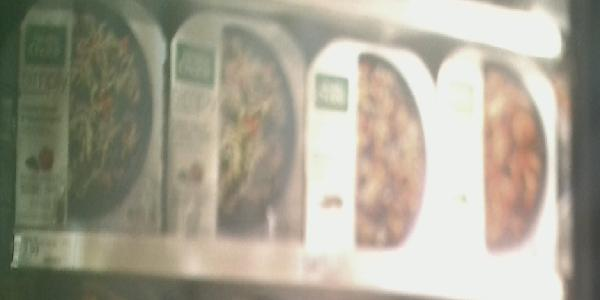pizza1: (11, 5, 165, 233), (165, 10, 302, 236), (304, 36, 442, 259), (441, 49, 560, 259)
